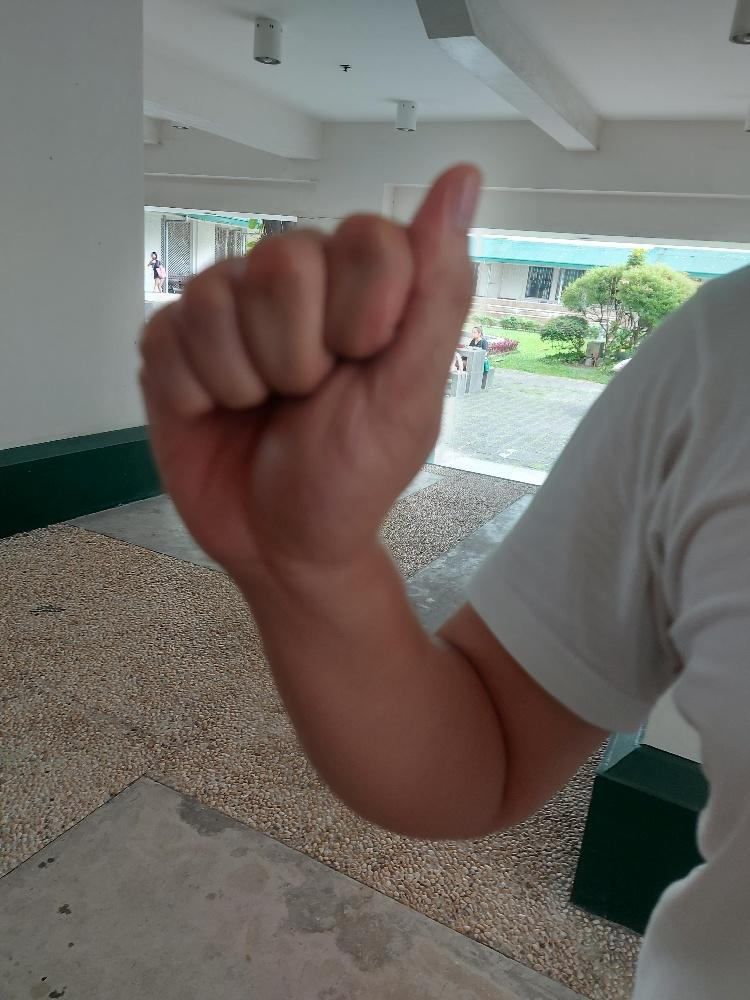a: (139, 156, 487, 557)
